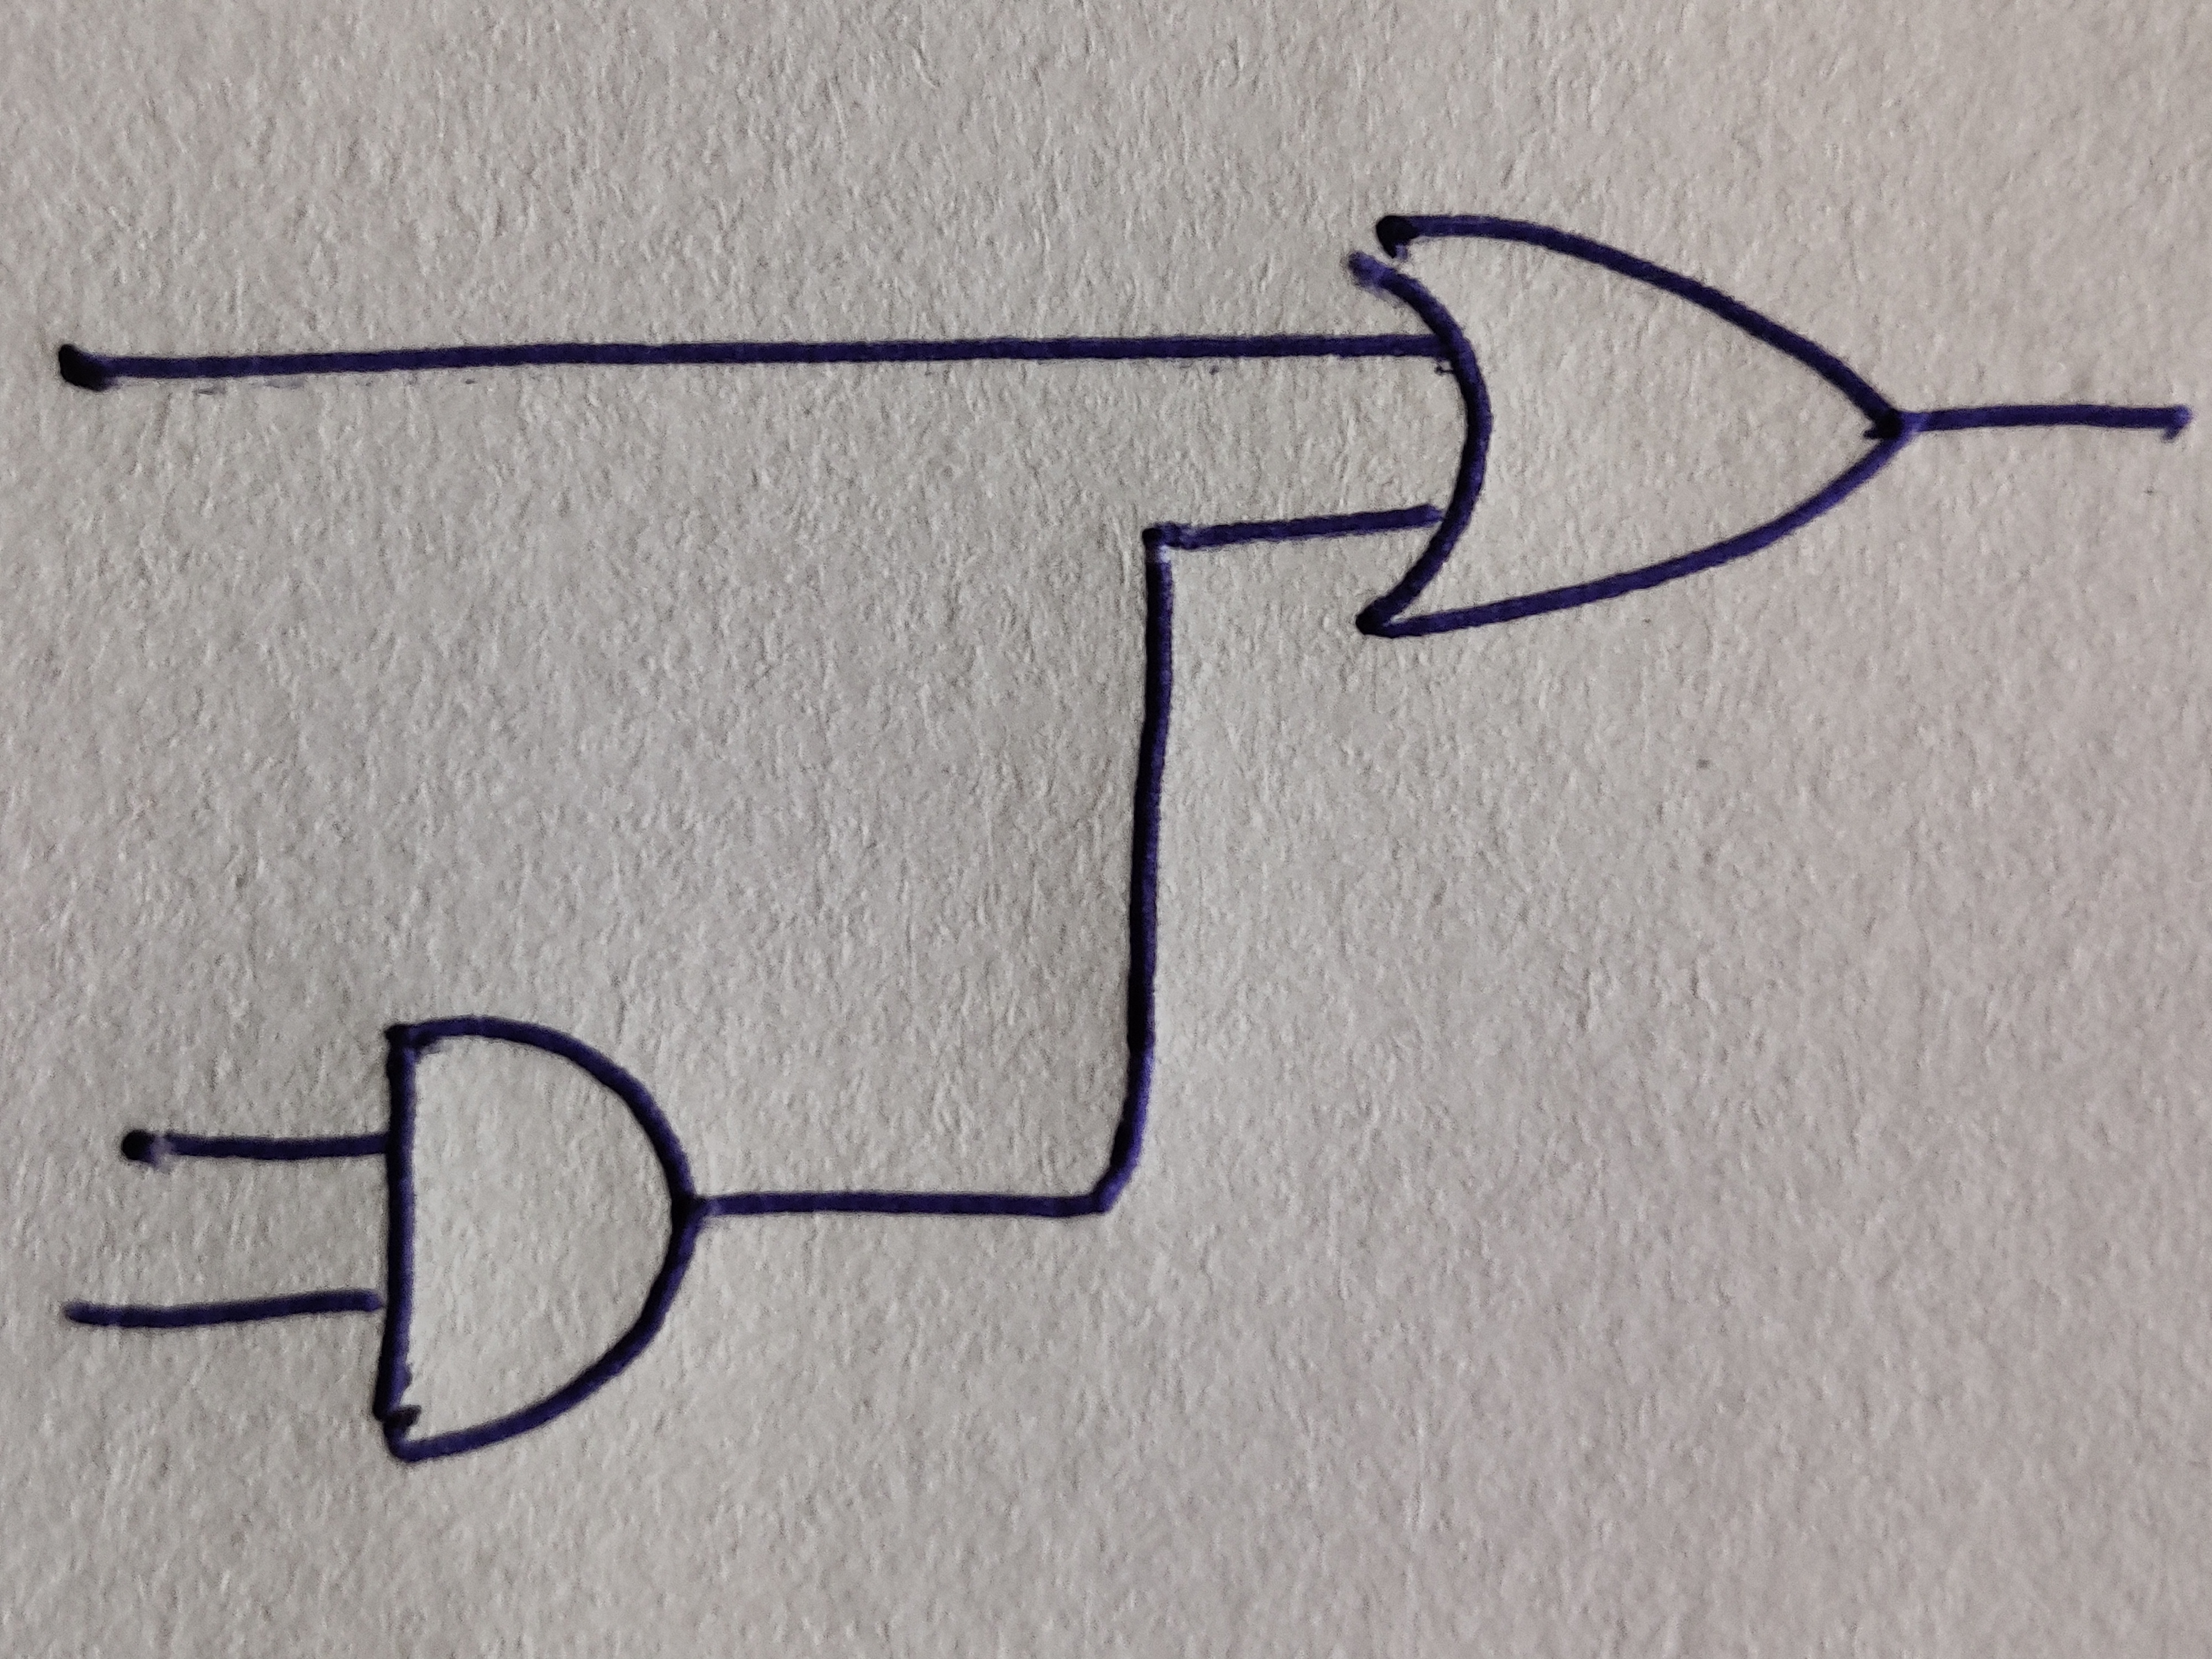and: (371, 1019, 698, 1466)
or: (1348, 214, 1909, 643)
